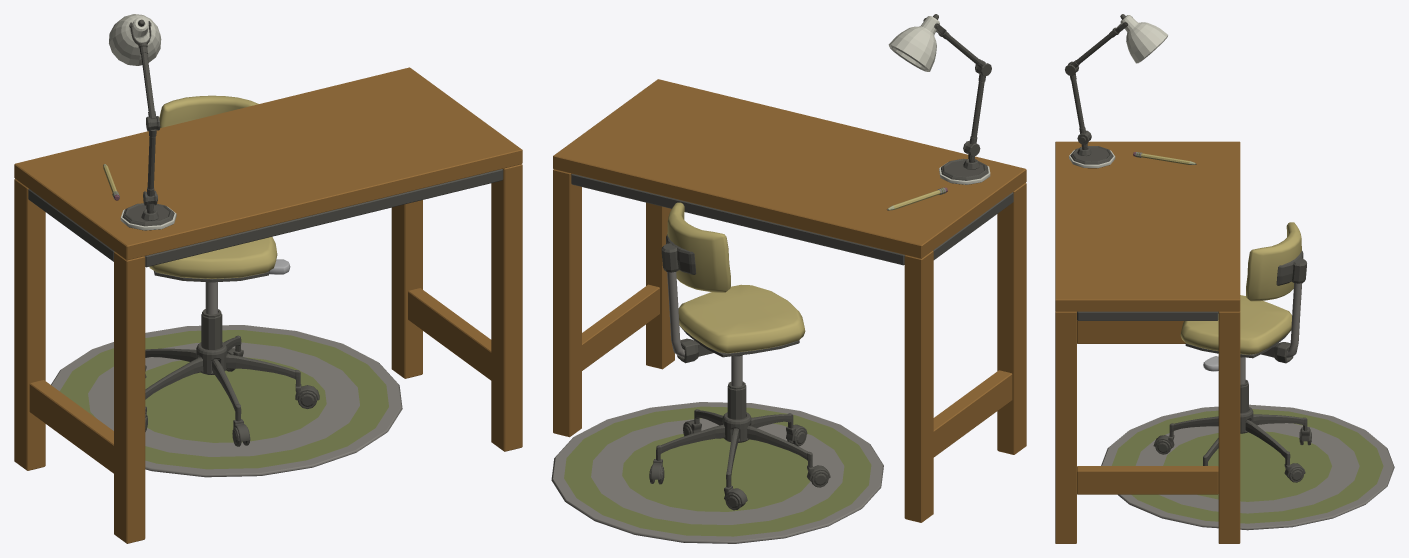
Rendered from Desk.fbx.
3 views of the same model, side by side, from view 1: azimuth 30°, elevation 25°; view 2: azimuth 150°, elevation 25°; view 3: azimuth 270°, elevation 25° (orthographic). The views are drawn at different scales.
Parts seen in each view (by area): view 1: Desk, Rug; view 2: Desk, Rug; view 3: Desk, Rug.
Boxes of the visible parts, box(x1,y1,x2,y2) form: Desk: box(14, 14, 522, 543); Rug: box(51, 325, 402, 477); Desk: box(553, 14, 1026, 522); Rug: box(551, 402, 883, 543); Desk: box(1055, 14, 1311, 543); Rug: box(1101, 404, 1394, 530).
Size of the model in its own units: 284 by 330 by 257.
